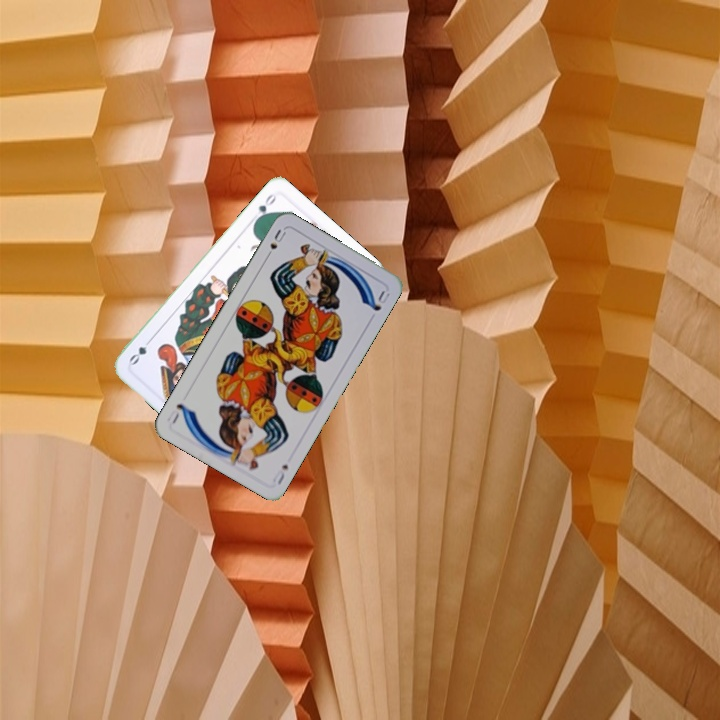GO: (251, 189, 279, 225)
SU: (261, 225, 289, 262), (268, 460, 291, 488)
